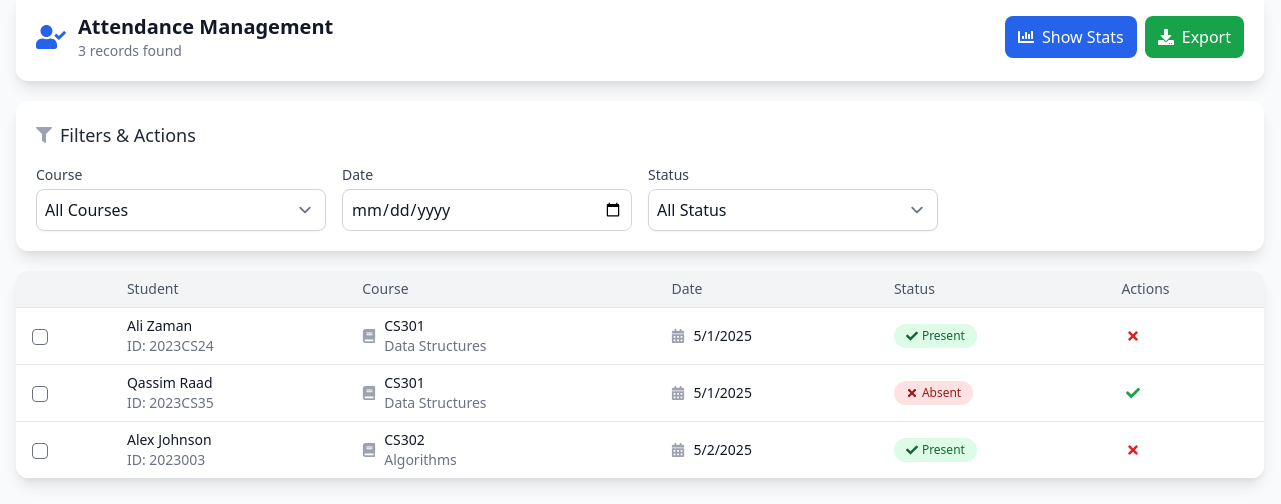
AttendanceList › marks selected rows as present in bulk
The width and height of the screenshot is (1281, 504).
Click the checkbox next to "Ali Zaman" at point(40, 337), box [32,329,48,345]
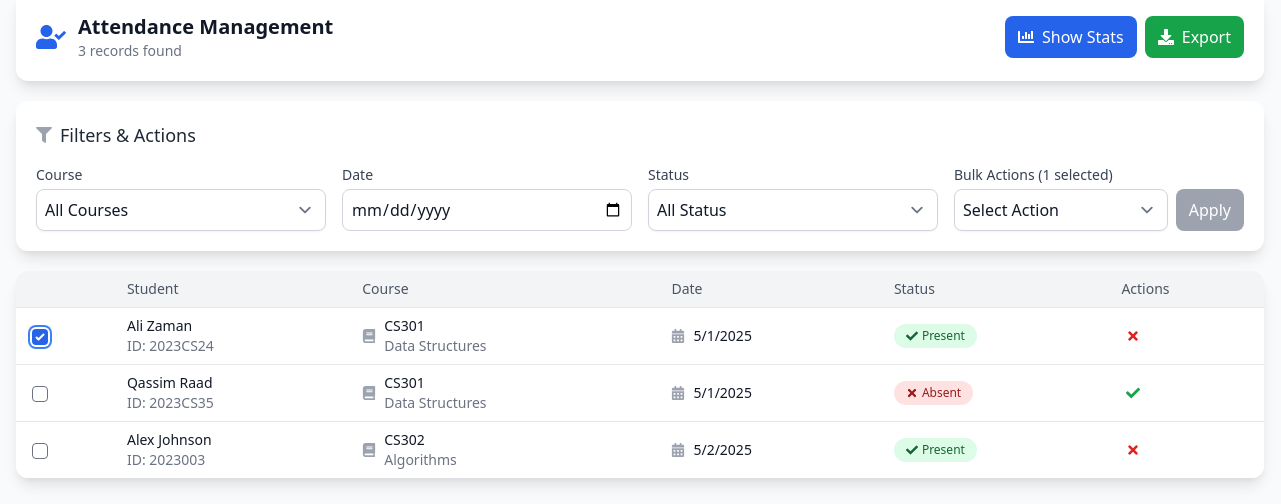
Click the checkbox next to "Qassim Raad" at point(40, 394), box [32,386,48,402]
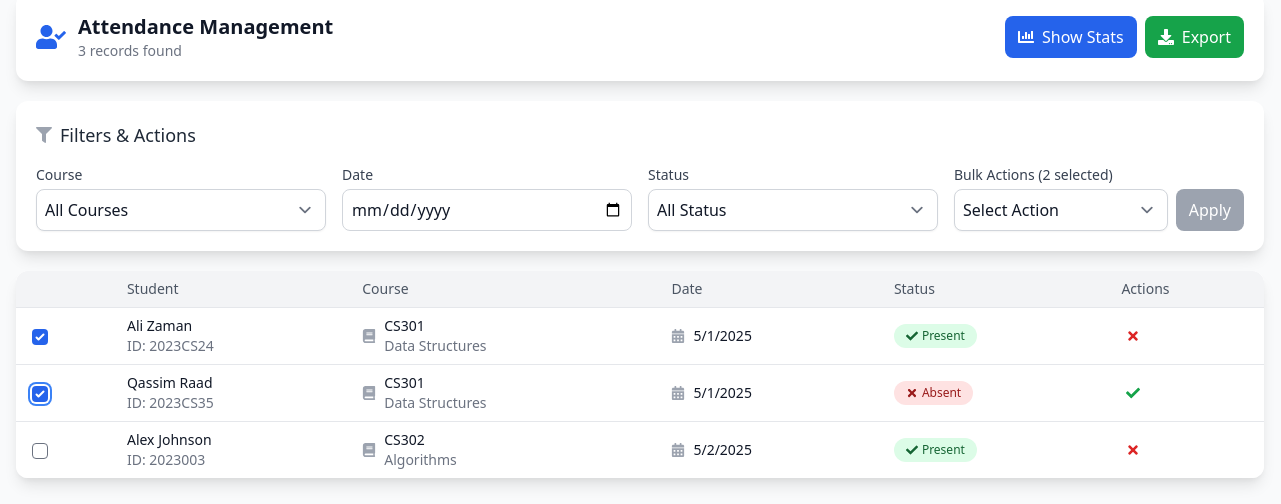
Select "Mark Present" in the dropdown showing "select action" below "Bulk Actions (" at point(1061, 210), box [954,189,1168,231]
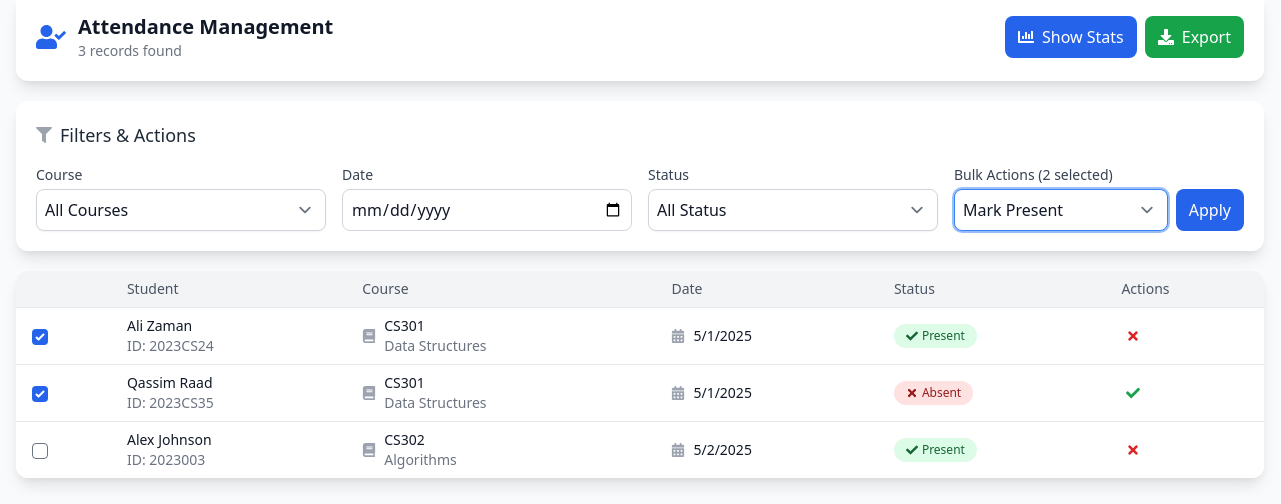
Click the button "Apply" at point(1210, 210), box [1176,189,1244,231]
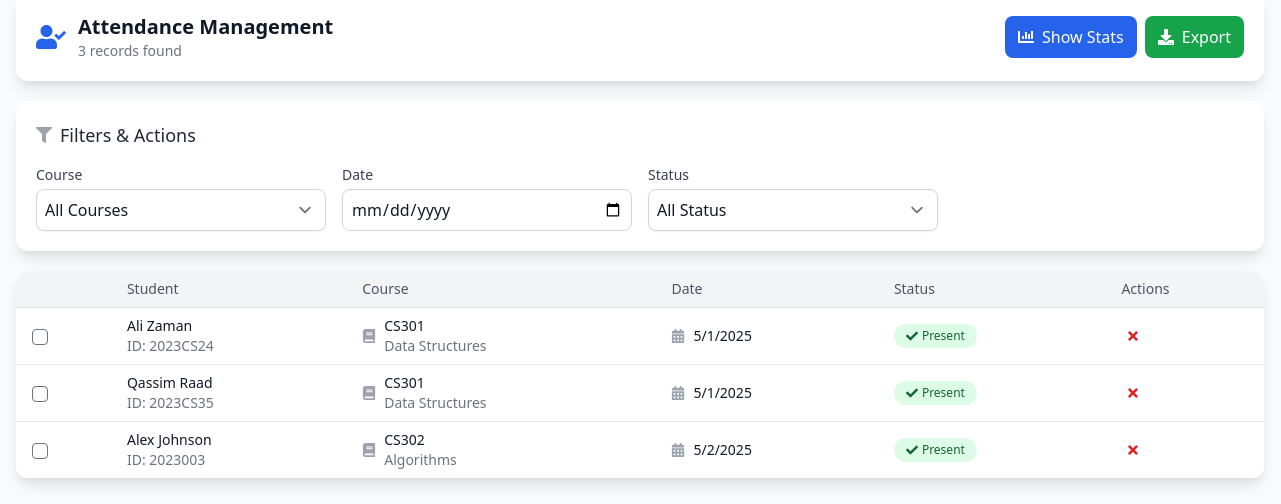
Expected: the text "Present" in the row of "Ali Zaman" is shown, [922,327,965,344]
Expected: the text "Present" in the row of "Qassim Raad" is shown, [922,384,965,401]
